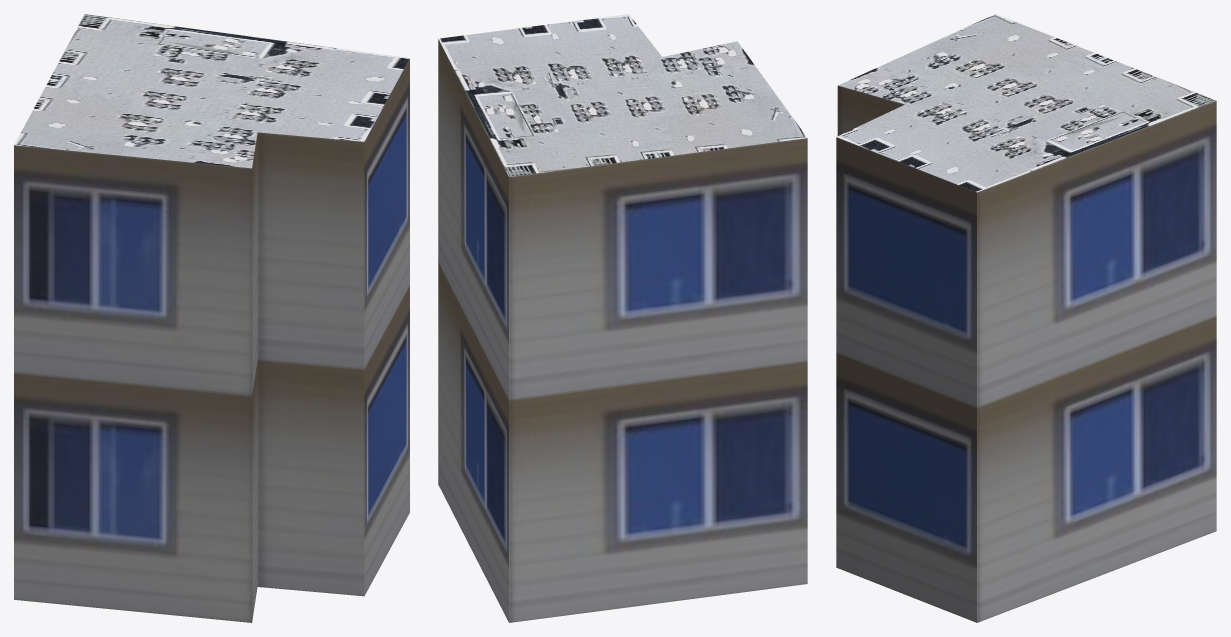
Rendered from ResTex__2309.fbx.
3 views of the same model, side by side, from view 1: azimuth 30°, elevation 25°; view 2: azimuth 150°, elevation 25°; view 3: azimuth 270°, elevation 25° (orthographic). The views are drawn at different scales.
Visible parts, largest first — view 1: CityEngineMaterial_23_m, CityEngineMaterial_4_m; view 2: CityEngineMaterial_23_m, CityEngineMaterial_4_m; view 3: CityEngineMaterial_23_m, CityEngineMaterial_4_m.
Part boxes in pixels (x1=…): CityEngineMaterial_23_m: x1=14, y1=58, x2=409, y2=622; CityEngineMaterial_4_m: x1=14, y1=14, x2=409, y2=168; CityEngineMaterial_23_m: x1=438, y1=39, x2=807, y2=622; CityEngineMaterial_4_m: x1=438, y1=14, x2=807, y2=176; CityEngineMaterial_23_m: x1=836, y1=85, x2=1216, y2=622; CityEngineMaterial_4_m: x1=836, y1=14, x2=1216, y2=192.
Bounding box in the file's own units: 5.33 × 6 × 4.81.
Materials: 2 (2 with a texture image).
